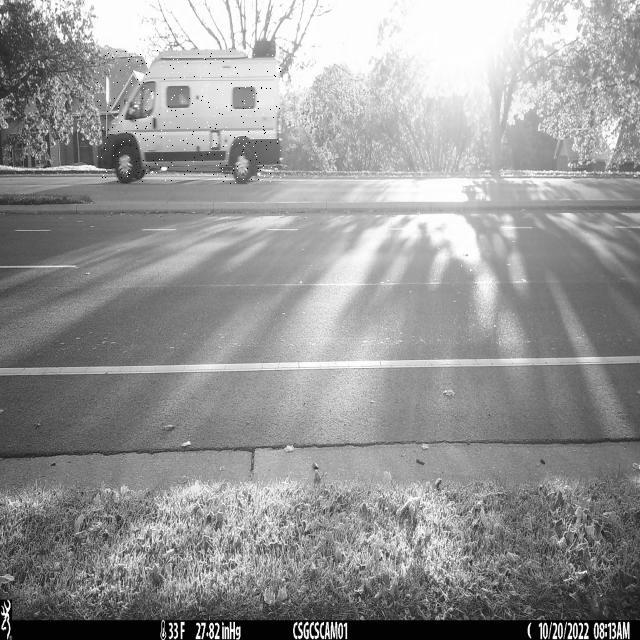Van: (97, 50, 281, 184)
